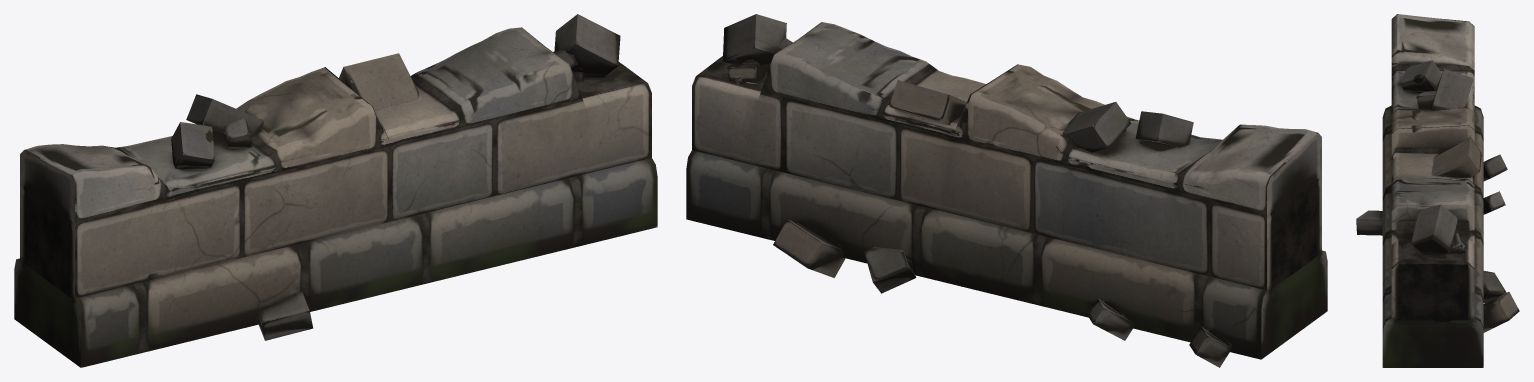
File: wall_low.glb
The picture shows the model from 3 angles, left to right: view 1: azimuth 30°, elevation 25°; view 2: azimuth 150°, elevation 25°; view 3: azimuth 270°, elevation 25°; orthographic projection. The views are drawn at different scales.
Visible parts, largest first — view 1: wall_low; view 2: wall_low; view 3: wall_low.
Part boxes in pixels (left/top/right/bottom): wall_low: left=14, top=14, right=657, bottom=367; wall_low: left=686, top=14, right=1327, bottom=367; wall_low: left=1356, top=14, right=1519, bottom=367.
Size of the model in its own units: 4 by 1.44 by 1.3.
1 material, 1 textured.
